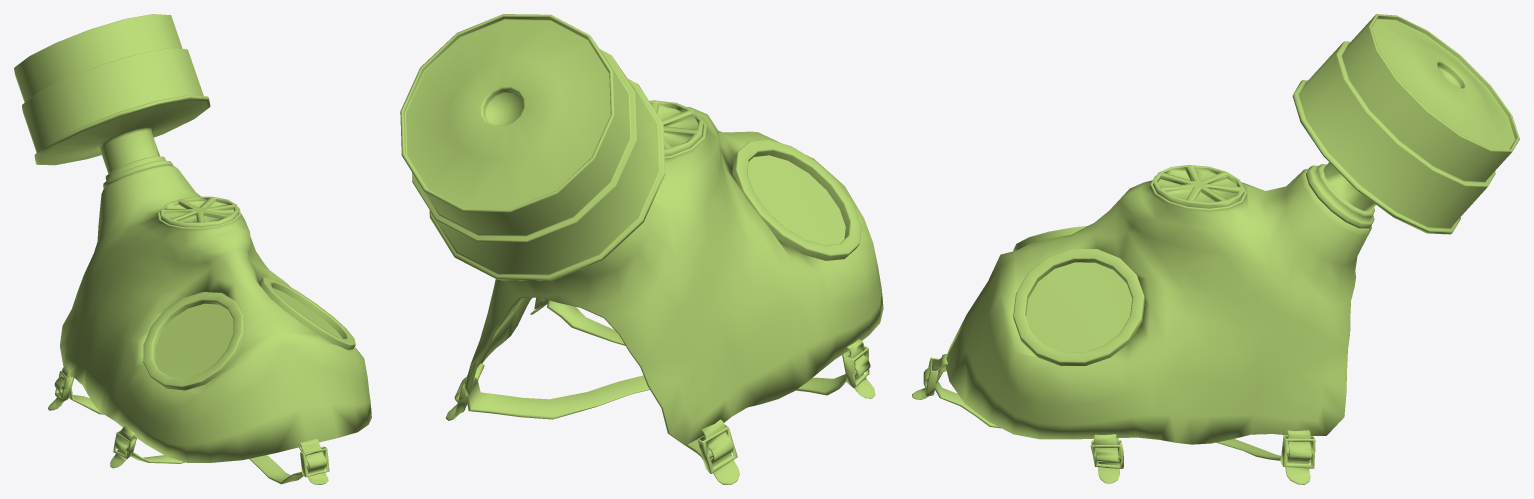
The model's file is GasMask.fbx.
3 renders of one model, left to right at view 1: azimuth 30°, elevation 25°; view 2: azimuth 150°, elevation 25°; view 3: azimuth 270°, elevation 25°, orthographic. The views are drawn at different scales.
Parts seen in each view (by area): view 1: GasMask; view 2: GasMask; view 3: GasMask.
Boxes of the visible parts, bbox=[...] form: GasMask: bbox=[14, 14, 371, 484]; GasMask: bbox=[400, 14, 883, 484]; GasMask: bbox=[912, 14, 1519, 484].
Bounding box in the file's own units: 0.2409 × 0.3146 × 0.4336.
